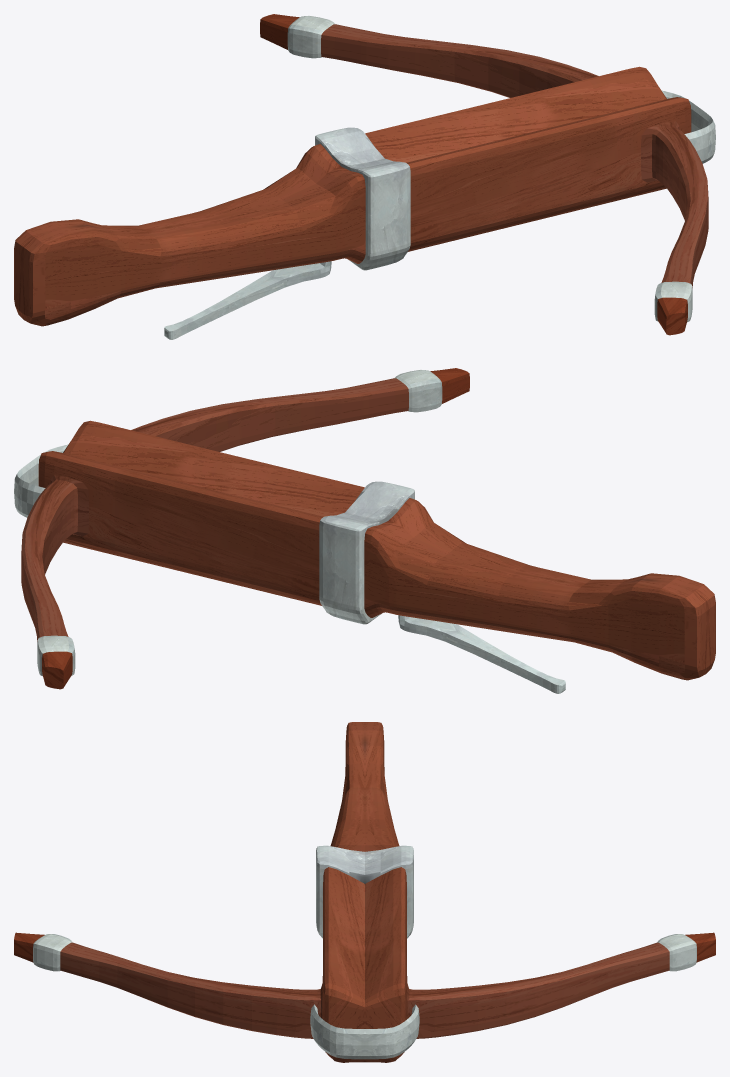
The model's file is crossbowRedWood.glb.
3 renders of one model, top to bottom at view 1: azimuth 30°, elevation 25°; view 2: azimuth 150°, elevation 25°; view 3: azimuth 270°, elevation 25°, orthographic. The views are drawn at different scales.
Visible parts, largest first — view 1: Crossbow Simple; view 2: Crossbow Simple; view 3: Crossbow Simple.
Part boxes in pixels (left/top/right/bottom): Crossbow Simple: left=14, top=14, right=715, bottom=339; Crossbow Simple: left=14, top=368, right=715, bottom=693; Crossbow Simple: left=14, top=722, right=715, bottom=1062.
Size of the model in its own units: 8.68 by 1.71 by 9.02.
Materials: 1 (1 with a texture image).
